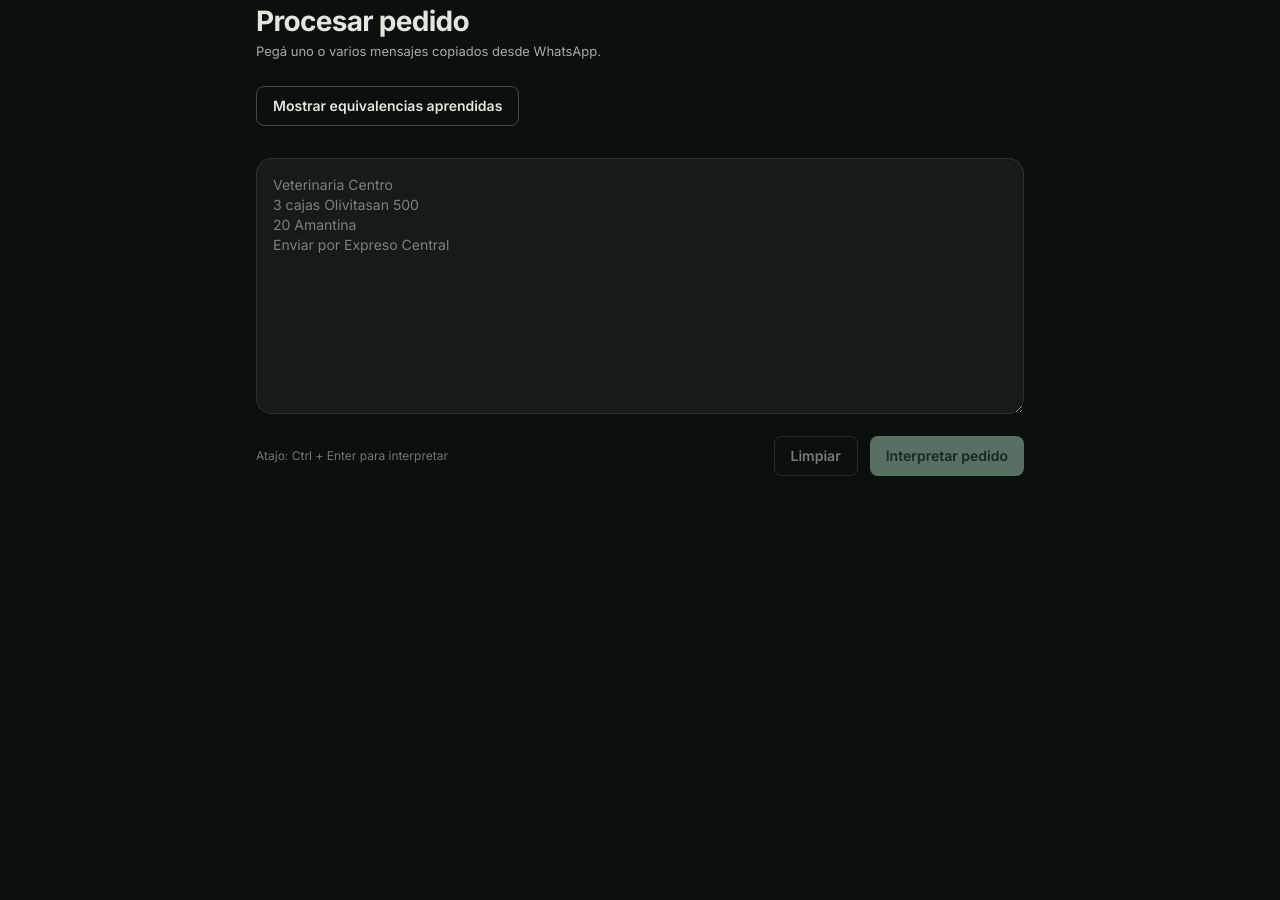
Test case: AutomationPage › eliminar alias abre modal propio
The image size is (1280, 900).
Click the button "Mostrar equivalencias aprendidas": (388, 106) [256,86,519,126]
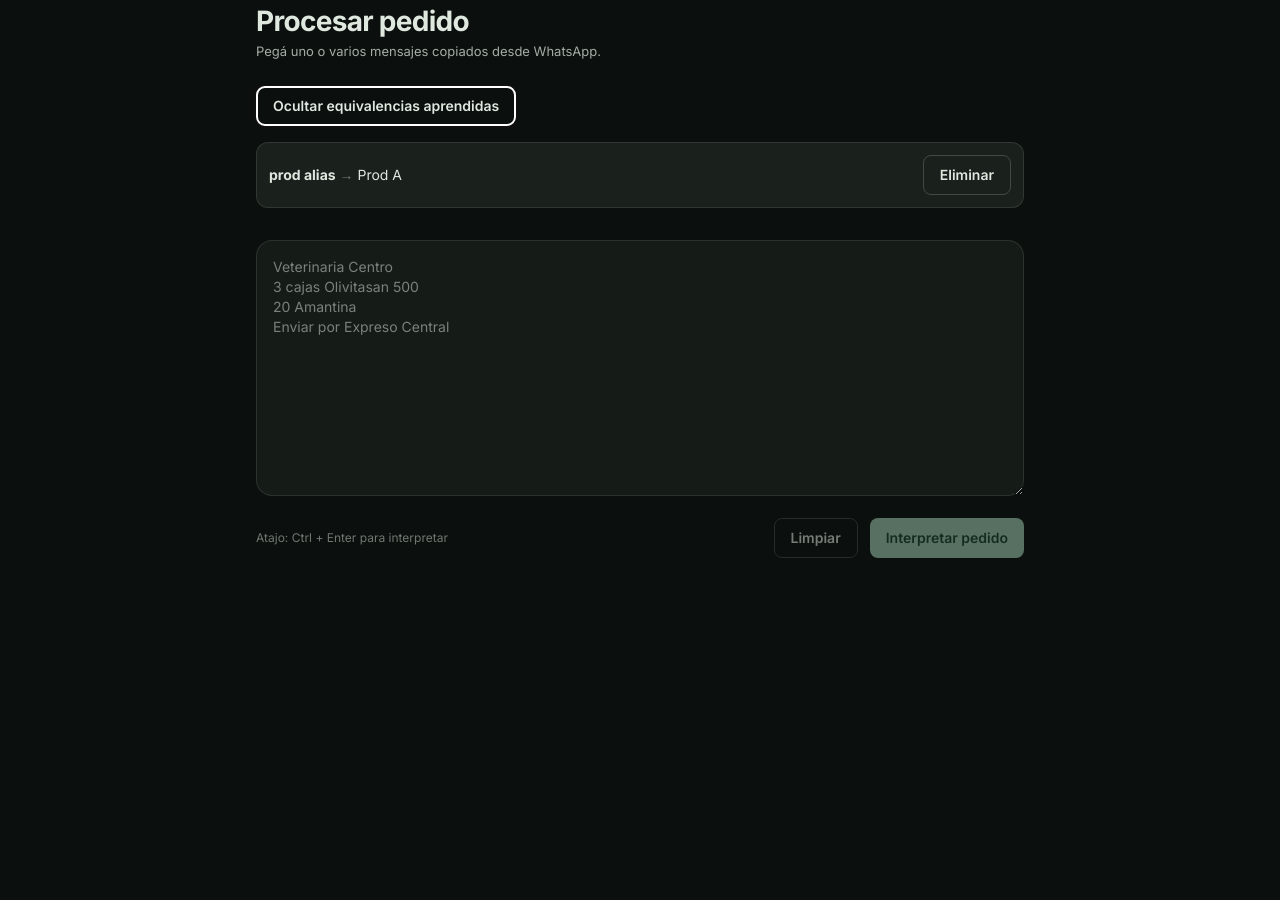
Click the button "Eliminar": (967, 174) [923,154,1011,194]
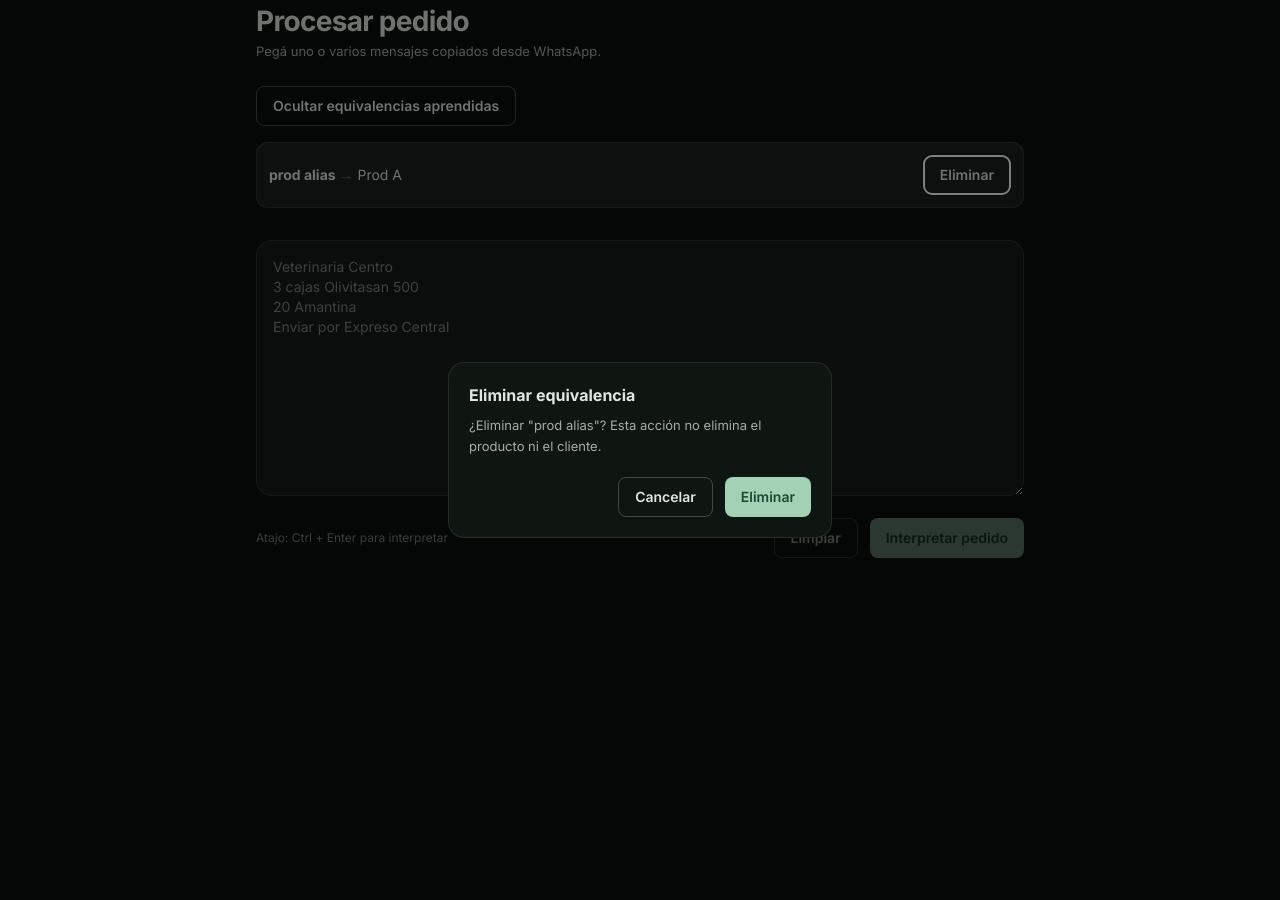
Now the element with test id "confirm-dialog" is shown
Now the text "¿Eliminar \"prod alias\"?" is shown, box [469,417,761,454]
